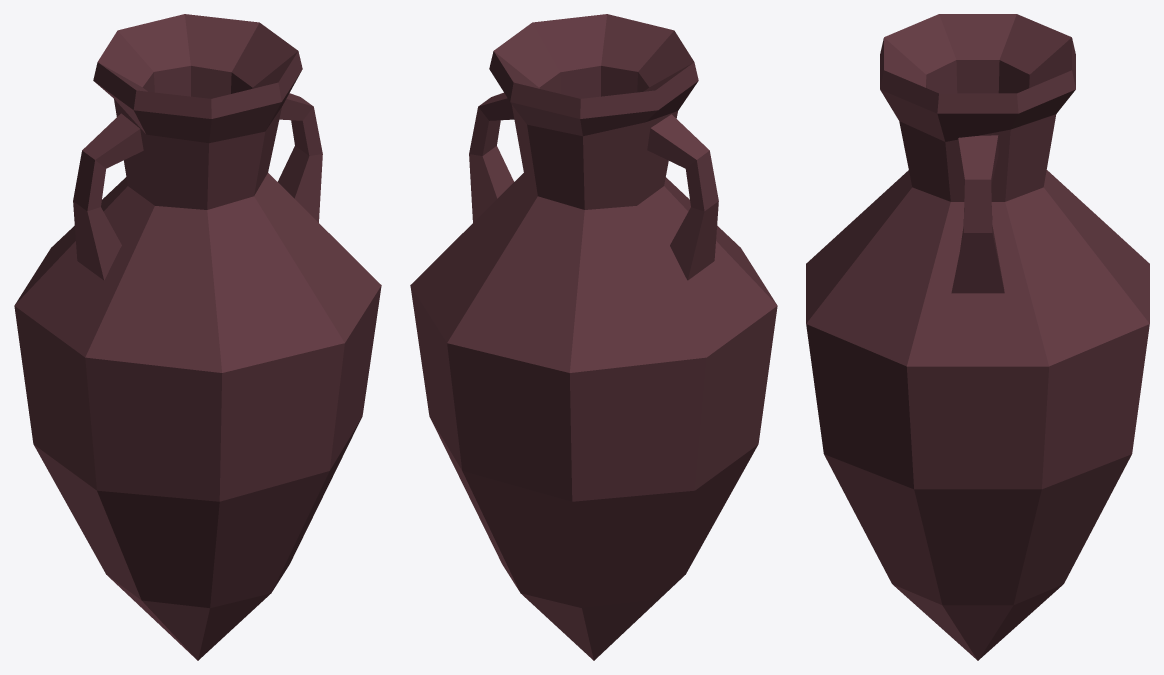
The model's file is SM_Vase_Amphora_Empire.fbx.
The picture shows the model from 3 angles, left to right: view 1: azimuth 30°, elevation 25°; view 2: azimuth 150°, elevation 25°; view 3: azimuth 270°, elevation 25°; orthographic projection.
Parts seen in each view (by area): view 1: SM_Vase_Amphora_Empire; view 2: SM_Vase_Amphora_Empire; view 3: SM_Vase_Amphora_Empire.
Boxes of the visible parts, <box> form: SM_Vase_Amphora_Empire: <box>14,14,381,660</box>; SM_Vase_Amphora_Empire: <box>410,14,777,660</box>; SM_Vase_Amphora_Empire: <box>806,14,1149,660</box>.
Bounding box in the file's own units: 0.4591 × 0.8948 × 0.4591.
